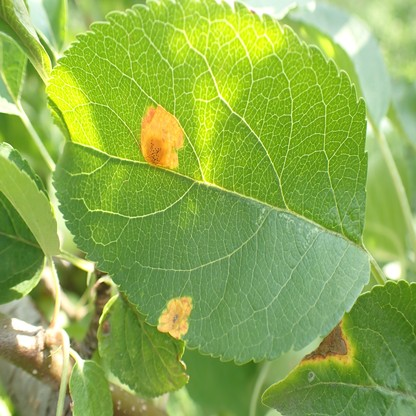powdery_mildew: (270, 390, 323, 416)
rust: (140, 104, 185, 168), (301, 318, 355, 366), (158, 296, 193, 339), (103, 321, 110, 334)
